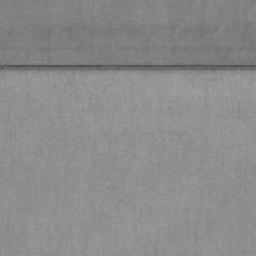Welding line: (0, 65, 256, 70)
